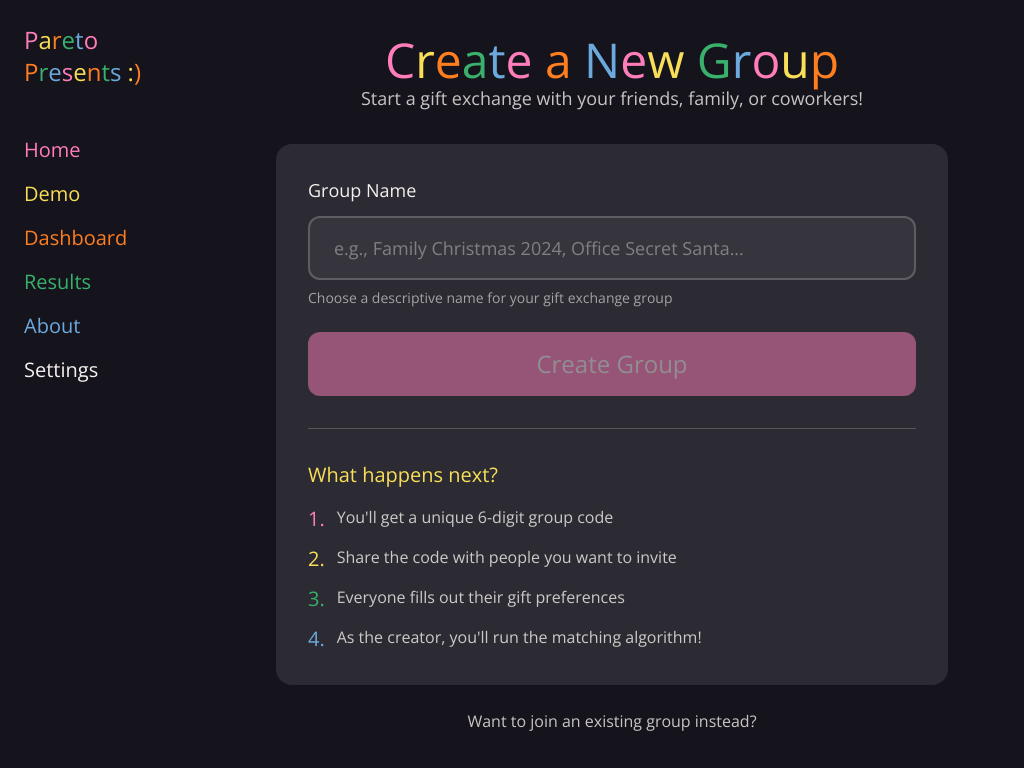
CreateGroupPage › Form validation › enables submit button when group name is entered
The image size is (1024, 768).
In the field with placeholder "e.g., Family Christmas 2024, Office Secret Santa...": [612, 248] box [308,216,916,280], type "My Test Group"
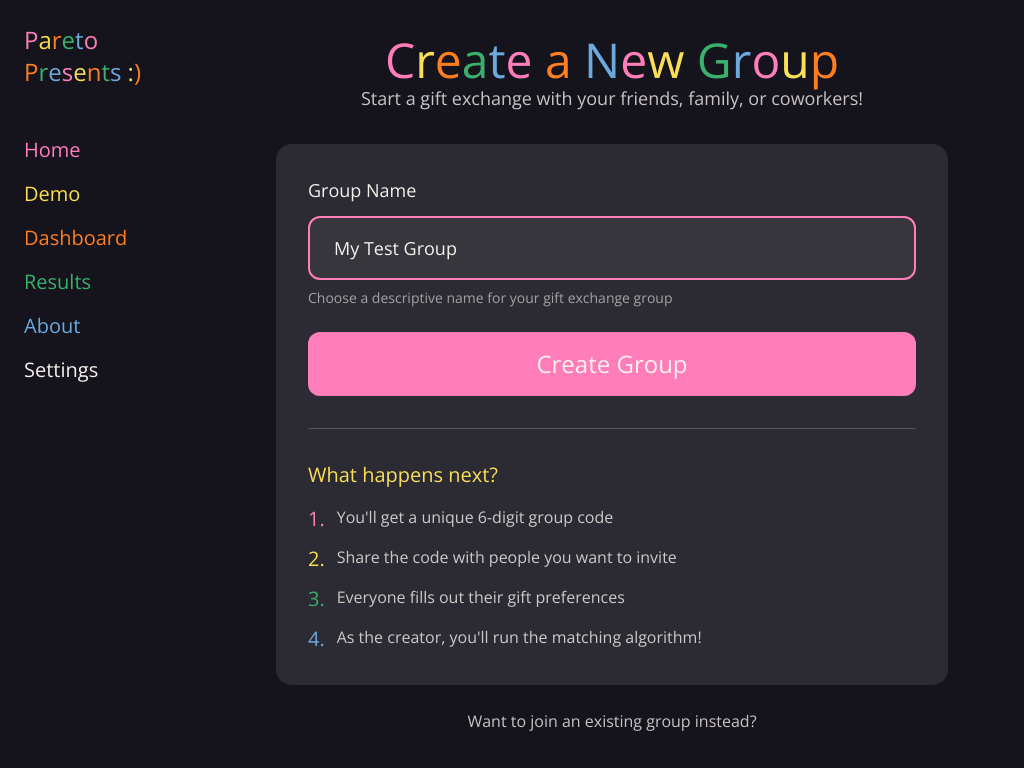
Expected: the button "Create Group" is enabled, [308,332,916,396]
